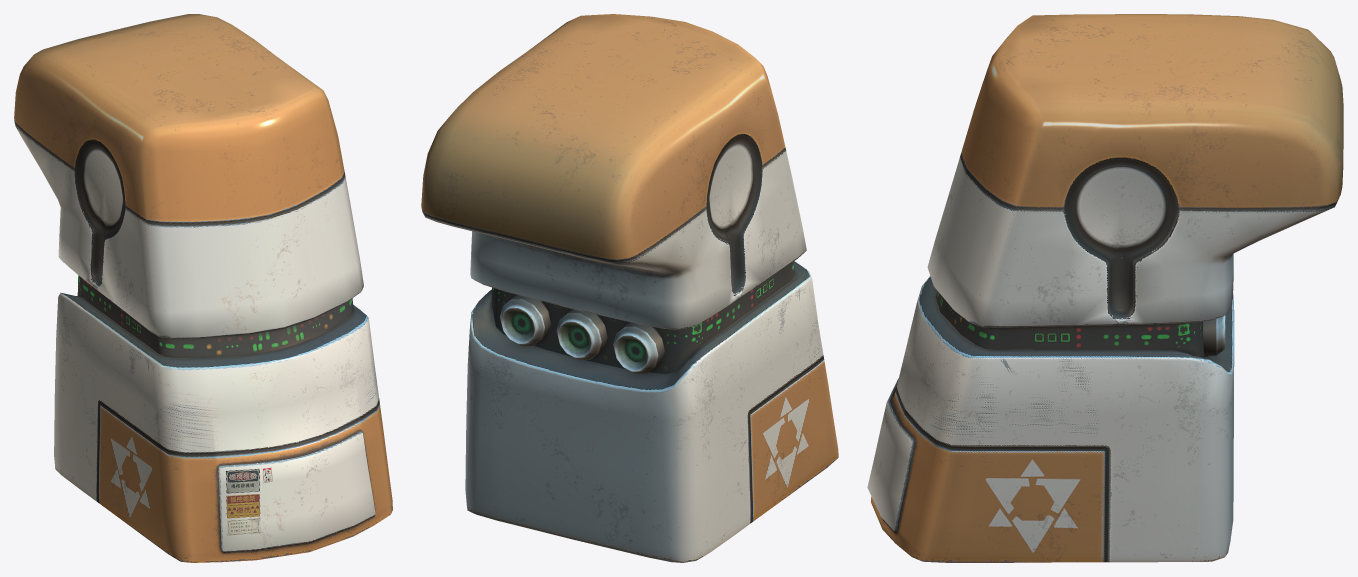
File: power_node.FBX
3 renders of one model, left to right at view 1: azimuth 30°, elevation 25°; view 2: azimuth 150°, elevation 25°; view 3: azimuth 270°, elevation 25°, orthographic. The views are drawn at different scales.
Parts seen in each view (by area): view 1: default; view 2: default; view 3: default.
Boxes of the visible parts, x1=… form: default: x1=14, y1=14, x2=392, y2=562; default: x1=421, y1=14, x2=838, y2=562; default: x1=867, y1=14, x2=1343, y2=562.
Size of what is drawn, in the model's own units: 139 by 243 by 234.
